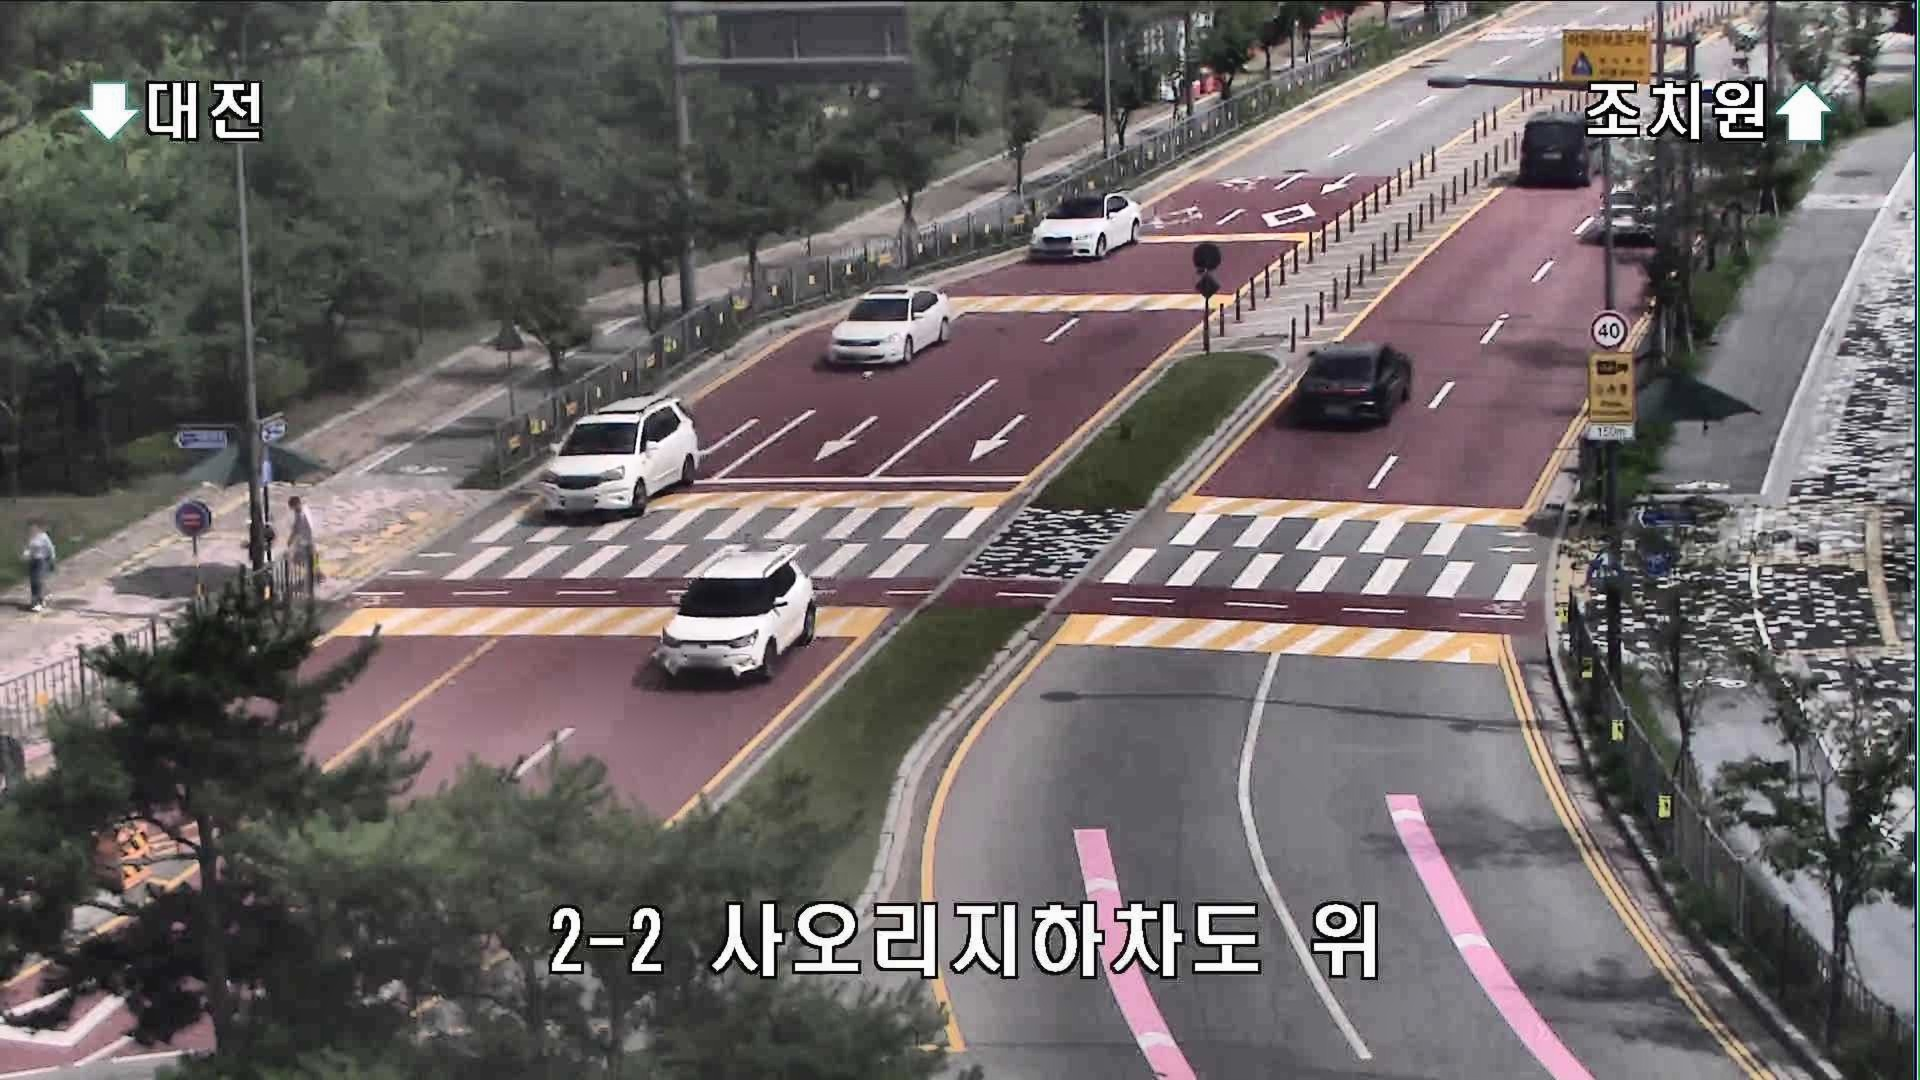sidewalk: (18, 518, 59, 615), (286, 491, 326, 588)
